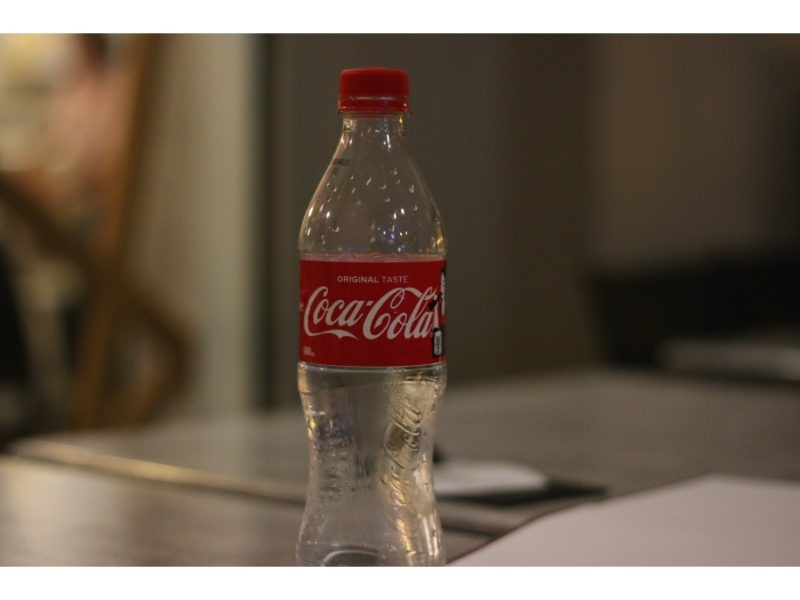PET #1: (295, 67, 450, 564)
